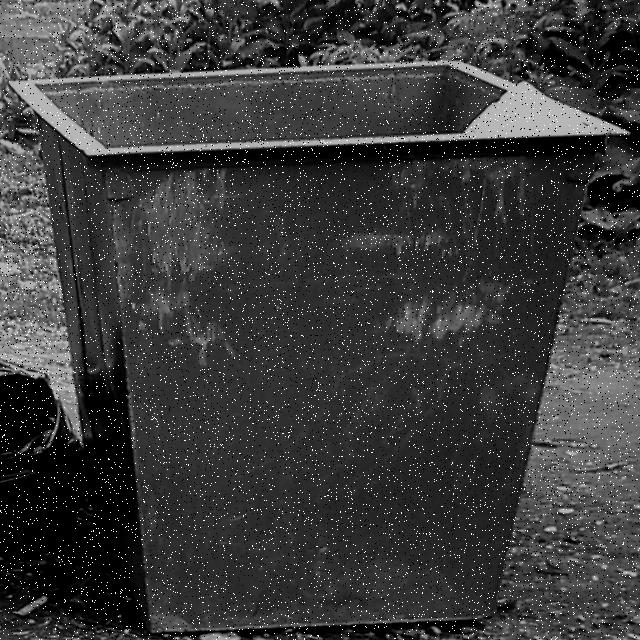Trashcan: (3, 45, 640, 631)
